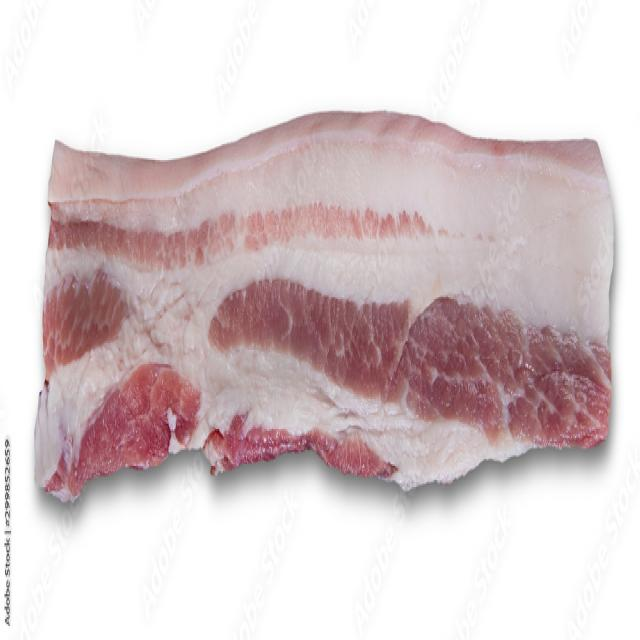Pork: (35, 114, 614, 500)
